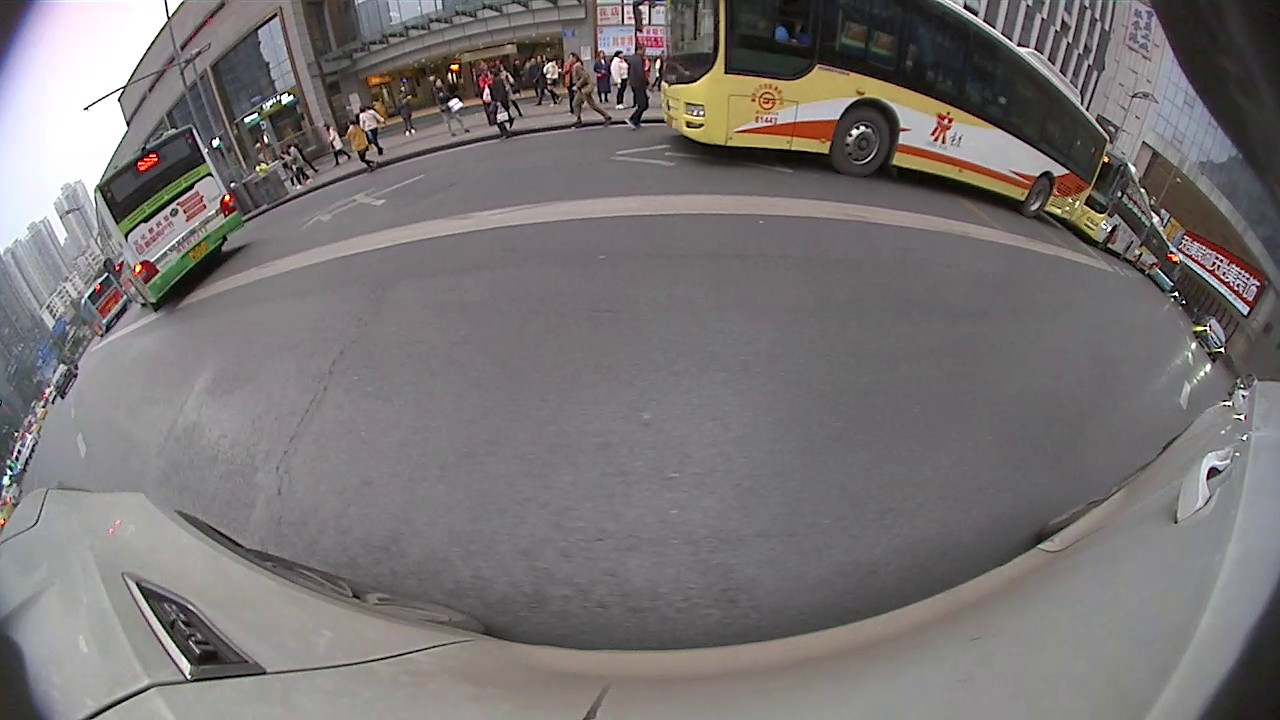bus: (666, 1, 1112, 223), (91, 121, 251, 313), (1071, 155, 1154, 264), (78, 270, 130, 338)
car: (1193, 317, 1227, 363)
front: (833, 105, 896, 178)
person: (621, 43, 651, 131), (487, 68, 511, 142), (569, 53, 591, 129), (348, 117, 377, 174)
rear: (1022, 173, 1057, 218)
